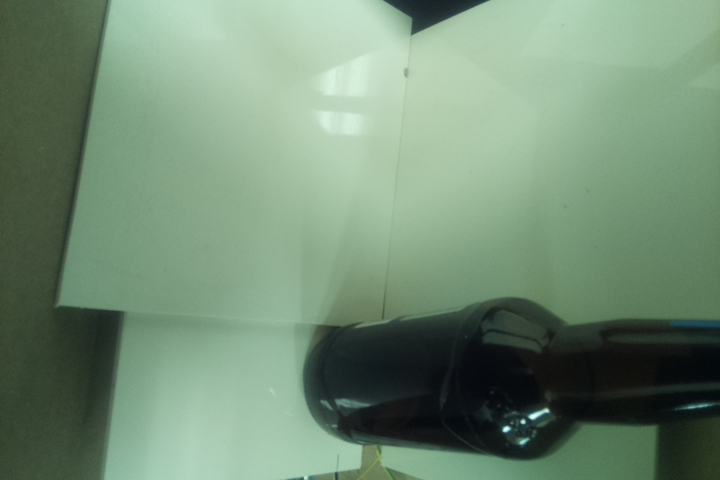makju: (300, 296, 720, 463)
